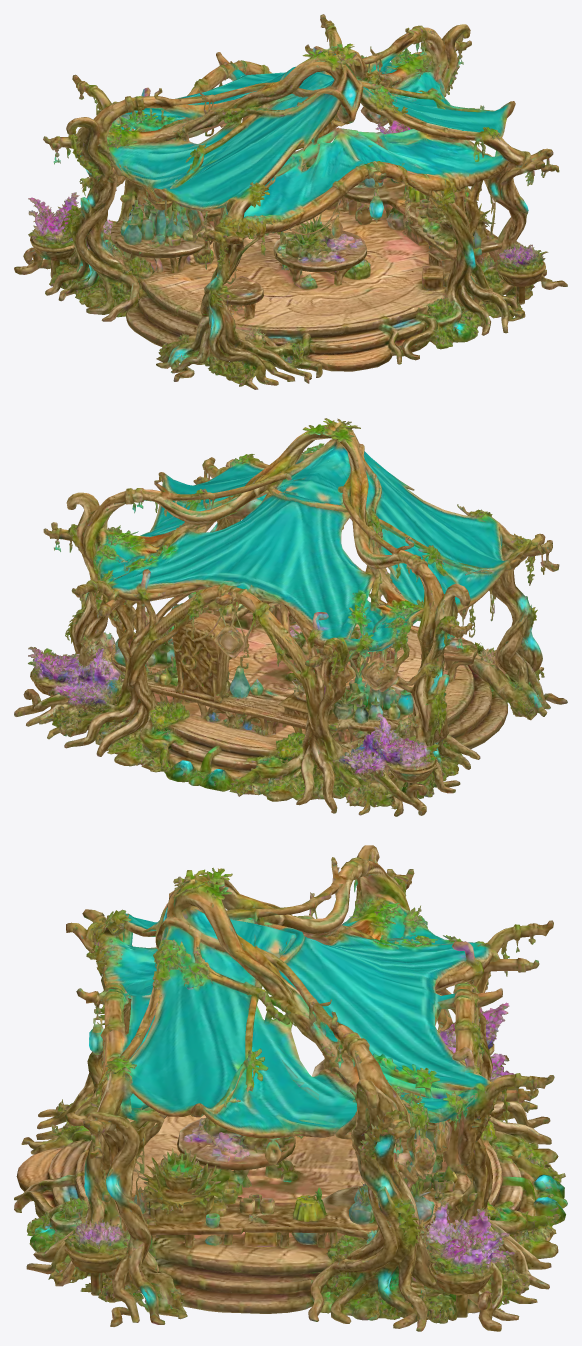
The model's file is village-market-pavilion.glb.
3 views of the same model, one above another, from view 1: azimuth 30°, elevation 25°; view 2: azimuth 150°, elevation 25°; view 3: azimuth 270°, elevation 25° (orthographic). The views are drawn at different scales.
Size of the model in its own units: 1.9 by 1.12 by 1.7.
Materials: 1 (1 with a texture image).
